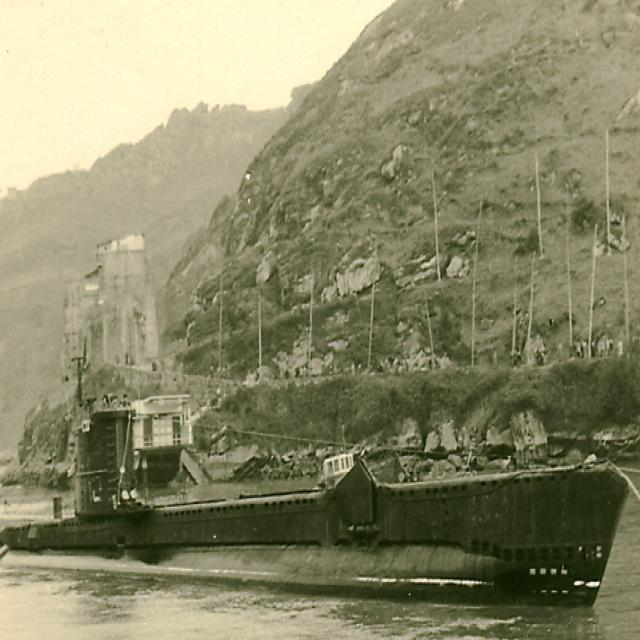submarine: (1, 410, 637, 613)
